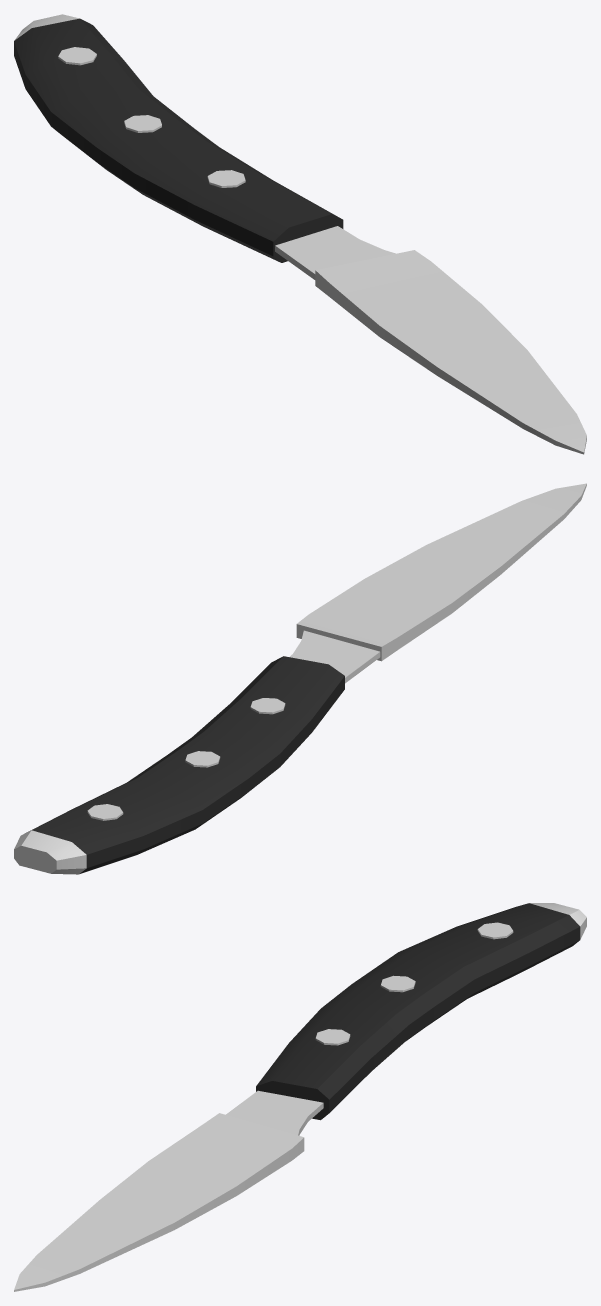
Rendered from ParingKnife_01.fbx.
The picture shows the model from 3 angles, top to bottom: view 1: azimuth 30°, elevation 25°; view 2: azimuth 150°, elevation 25°; view 3: azimuth 330°, elevation 25°; orthographic projection. The views are drawn at different scales.
Visible parts, largest first — view 1: ParingKnife_01; view 2: ParingKnife_01; view 3: ParingKnife_01.
Part boxes in pixels (x1=…): ParingKnife_01: x1=14, y1=14, x2=586, y2=454; ParingKnife_01: x1=14, y1=483, x2=586, y2=874; ParingKnife_01: x1=14, y1=903, x2=586, y2=1291.
Bounding box in the file's own units: 0.0367 × 0.00983 × 0.2691.
